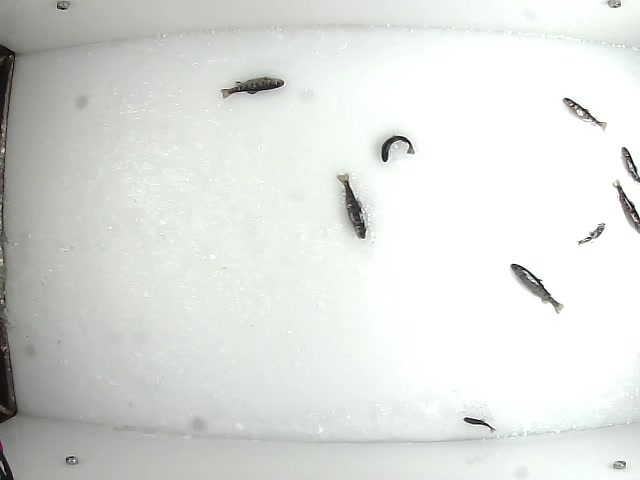fish: (509, 261, 569, 316), (333, 171, 367, 241), (217, 73, 283, 99), (562, 97, 610, 132), (378, 132, 416, 164), (618, 148, 640, 184), (576, 221, 606, 246), (462, 416, 498, 434)
